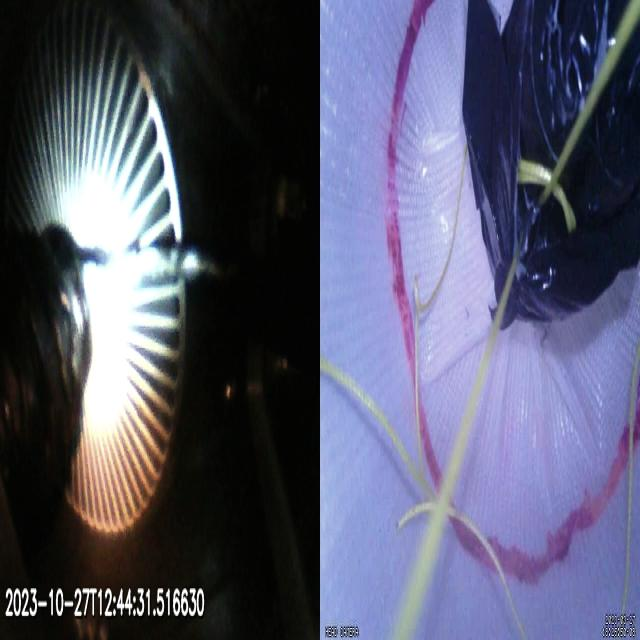red-circle: (387, 1, 640, 584)
